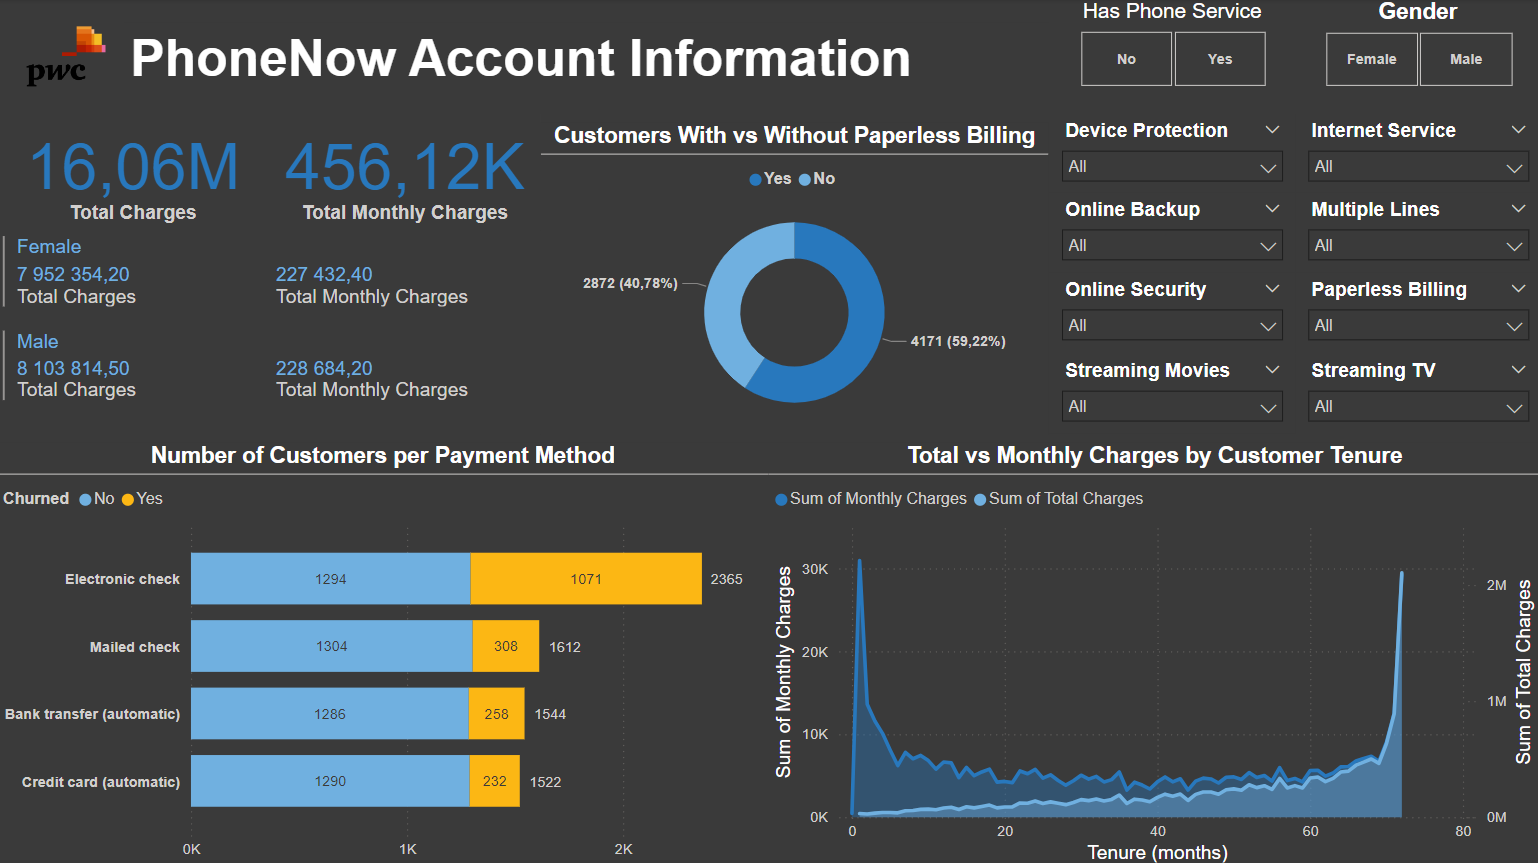

The page's visual inventory and layout, read from the dashboard file:
{"tool":"powerbi","page":{"name":"Account Information","canvas":[1280,720],"ordinal":1},"visuals":[{"type":"card","fields":{"Values":["Sum(01 Churn-Dataset.MonthlyCharges)"]},"box":[226.2,95.3,225,96.3],"z":0,"group":"g1"},{"type":"card","fields":{"Values":["Sum(01 Churn-Dataset.TotalCharges)"]},"box":[0,95.3,226.2,96.3],"z":1000,"group":"g1"},{"type":"barChart","title":"Number of Customers per Payment Method","fields":{"Category":["01 Churn-Dataset.PaymentMethod"],"Y":["CountNonNull(01 Churn-Dataset.customerID)"],"Series":["01 Churn-Dataset.Churned"]},"box":[0,367.4,639.5,352.3],"z":2000},{"type":"slicer","title":"Gender","fields":{"Values":["01 Churn-Dataset.gender"]},"box":[1075.6,0,204.7,79.1],"z":3000},{"type":"multiRowCard","fields":{"Values":["01 Churn-Dataset.gender","Sum(01 Churn-Dataset.TotalCharges)","Sum(01 Churn-Dataset.MonthlyCharges)"]},"box":[0,191.3,451.2,169.2],"z":3000,"group":"g1"},{"type":"donutChart","title":"Customers With vs Without Paperless Billing","fields":{"Y":["CountNonNull(01 Churn-Dataset.customerID)"],"Category":["01 Churn-Dataset.PaperlessBilling"]},"box":[451.2,102.3,420.9,258.1],"z":4000},{"type":"slicer","fields":{"Values":["01 Churn-Dataset.DeviceProtection"]},"box":[872.1,95.3,203.8,66.6],"z":6000,"group":"g2"},{"type":"lineChart","title":"Total vs Monthly Charges by Customer Tenure","fields":{"Category":["01 Churn-Dataset.tenure"],"Y":["Sum(01 Churn-Dataset.MonthlyCharges)"],"Y2":["Sum(01 Churn-Dataset.TotalCharges)"]},"box":[639.5,367.4,640.7,352.3],"z":6000},{"type":"image","box":[0,0,114,95.3],"z":7000},{"type":"slicer","fields":{"Values":["01 Churn-Dataset.InternetService"]},"box":[1075.9,95.3,203.8,66.6],"z":7000,"group":"g2"},{"type":"textbox","box":[105.7,20.2,812.3,59.4],"z":8000},{"type":"slicer","fields":{"Values":["01 Churn-Dataset.OnlineBackup"]},"box":[872.1,160.7,203.8,66.6],"z":8000,"group":"g2"},{"type":"group","id":"g1","title":"Group 2","box":[0,95.3,451.2,265.1],"z":8001},{"type":"group","id":"g2","title":"Group 1","box":[872.1,95.3,408.1,265.1],"z":8002},{"type":"slicer","title":"Has Phone Service","fields":{"Values":["01 Churn-Dataset.PhoneService"]},"box":[872.1,0,203.5,79.1],"z":8003},{"type":"slicer","fields":{"Values":["01 Churn-Dataset.MultipleLines"]},"box":[1075.9,160.7,203.8,66.6],"z":9000,"group":"g2"},{"type":"slicer","fields":{"Values":["01 Churn-Dataset.OnlineSecurity"]},"box":[872.1,227.3,203.8,66.6],"z":10000,"group":"g2"},{"type":"slicer","fields":{"Values":["01 Churn-Dataset.PaperlessBilling"]},"box":[1075.9,227.3,203.8,66.6],"z":11000,"group":"g2"},{"type":"slicer","fields":{"Values":["01 Churn-Dataset.StreamingMovies"]},"box":[872.1,294.3,204,66],"z":12000,"group":"g2"},{"type":"slicer","fields":{"Values":["01 Churn-Dataset.StreamingTV"]},"box":[1075.9,293.9,203.8,66.6],"z":14000,"group":"g2"}]}

Visuals, with their boxes in screenshot pixels (x1, y1, x2, y2), scaled from the page's 1280x720 canvas onto the 1538x863 screenshot:
card - Sum(01 Churn-Dataset.MonthlyCharges): 272 114 542 230
card - Sum(01 Churn-Dataset.TotalCharges): 0 114 272 230
"Number of Customers per Payment Method" barChart: 0 440 768 862
"Gender" slicer: 1292 0 1537 95
multiRowCard - 01 Churn-Dataset.gender x Sum(01 Churn-Dataset.TotalCharges): 0 229 542 432
"Customers With vs Without Paperless Billing" donutChart: 542 123 1048 432
slicer - 01 Churn-Dataset.DeviceProtection: 1048 114 1293 194
"Total vs Monthly Charges by Customer Tenure" lineChart: 768 440 1537 862
image: 0 0 137 114
slicer - 01 Churn-Dataset.InternetService: 1293 114 1537 194
textbox: 127 24 1103 95
slicer - 01 Churn-Dataset.OnlineBackup: 1048 193 1293 272
"Group 2" group: 0 114 542 432
"Group 1" group: 1048 114 1537 432
"Has Phone Service" slicer: 1048 0 1292 95
slicer - 01 Churn-Dataset.MultipleLines: 1293 193 1537 272
slicer - 01 Churn-Dataset.OnlineSecurity: 1048 272 1293 352
slicer - 01 Churn-Dataset.PaperlessBilling: 1293 272 1537 352
slicer - 01 Churn-Dataset.StreamingMovies: 1048 353 1293 432
slicer - 01 Churn-Dataset.StreamingTV: 1293 352 1537 432
